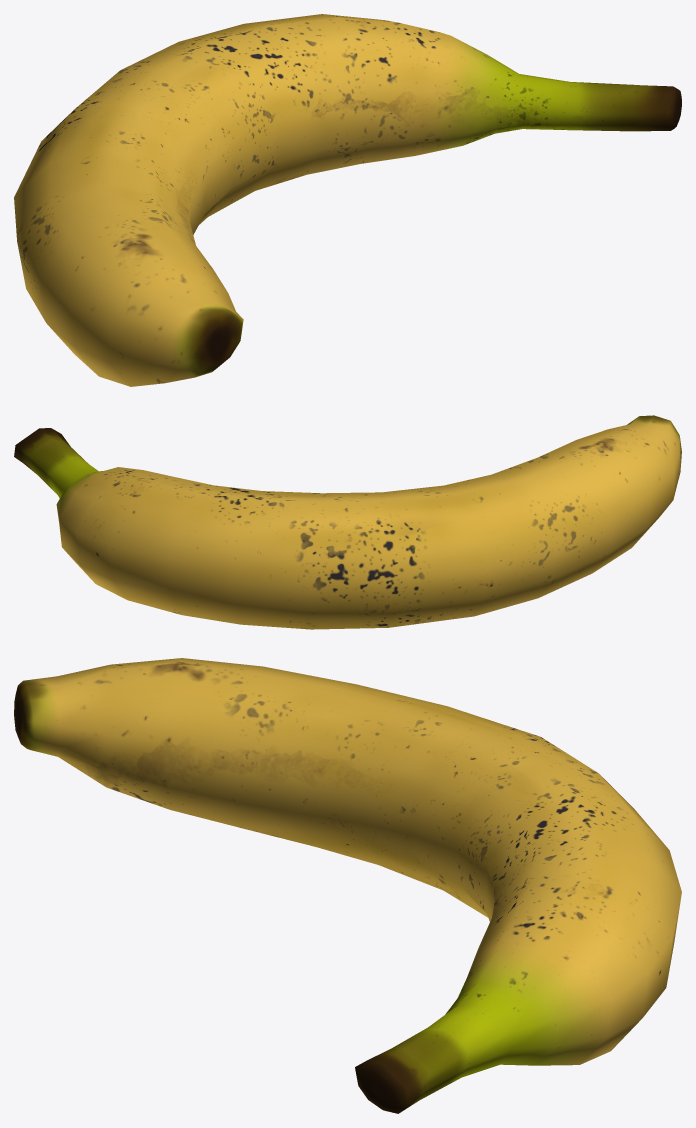
File: banana.glb
3 views of the same model, one above another, from view 1: azimuth 30°, elevation 25°; view 2: azimuth 150°, elevation 25°; view 3: azimuth 270°, elevation 25° (orthographic). The views are drawn at different scales.
Parts seen in each view (by area): view 1: SM_Banan; view 2: SM_Banan; view 3: SM_Banan.
Part boxes in pixels (bbox=[...]): SM_Banan: bbox=[14, 14, 681, 386]; SM_Banan: bbox=[14, 415, 681, 629]; SM_Banan: bbox=[14, 658, 681, 1113].
Size of the model in its own units: 2 by 0.4081 by 1.52.
1 material, 1 textured.
